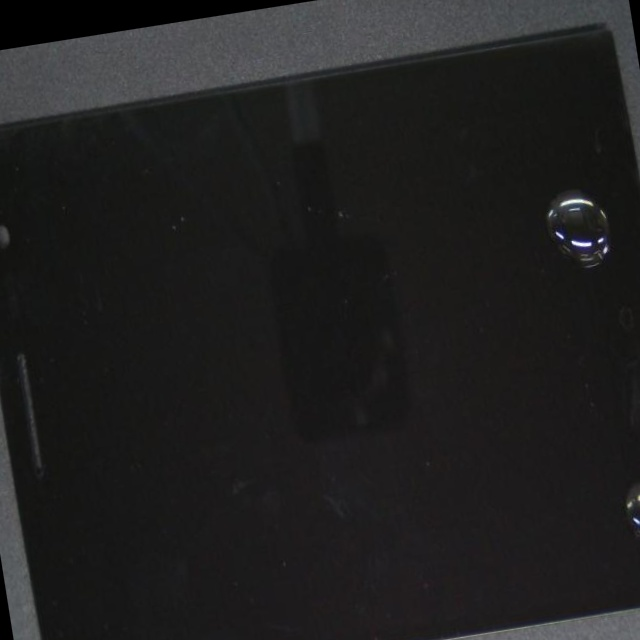oil: (310, 235, 640, 640), (292, 99, 640, 381)
